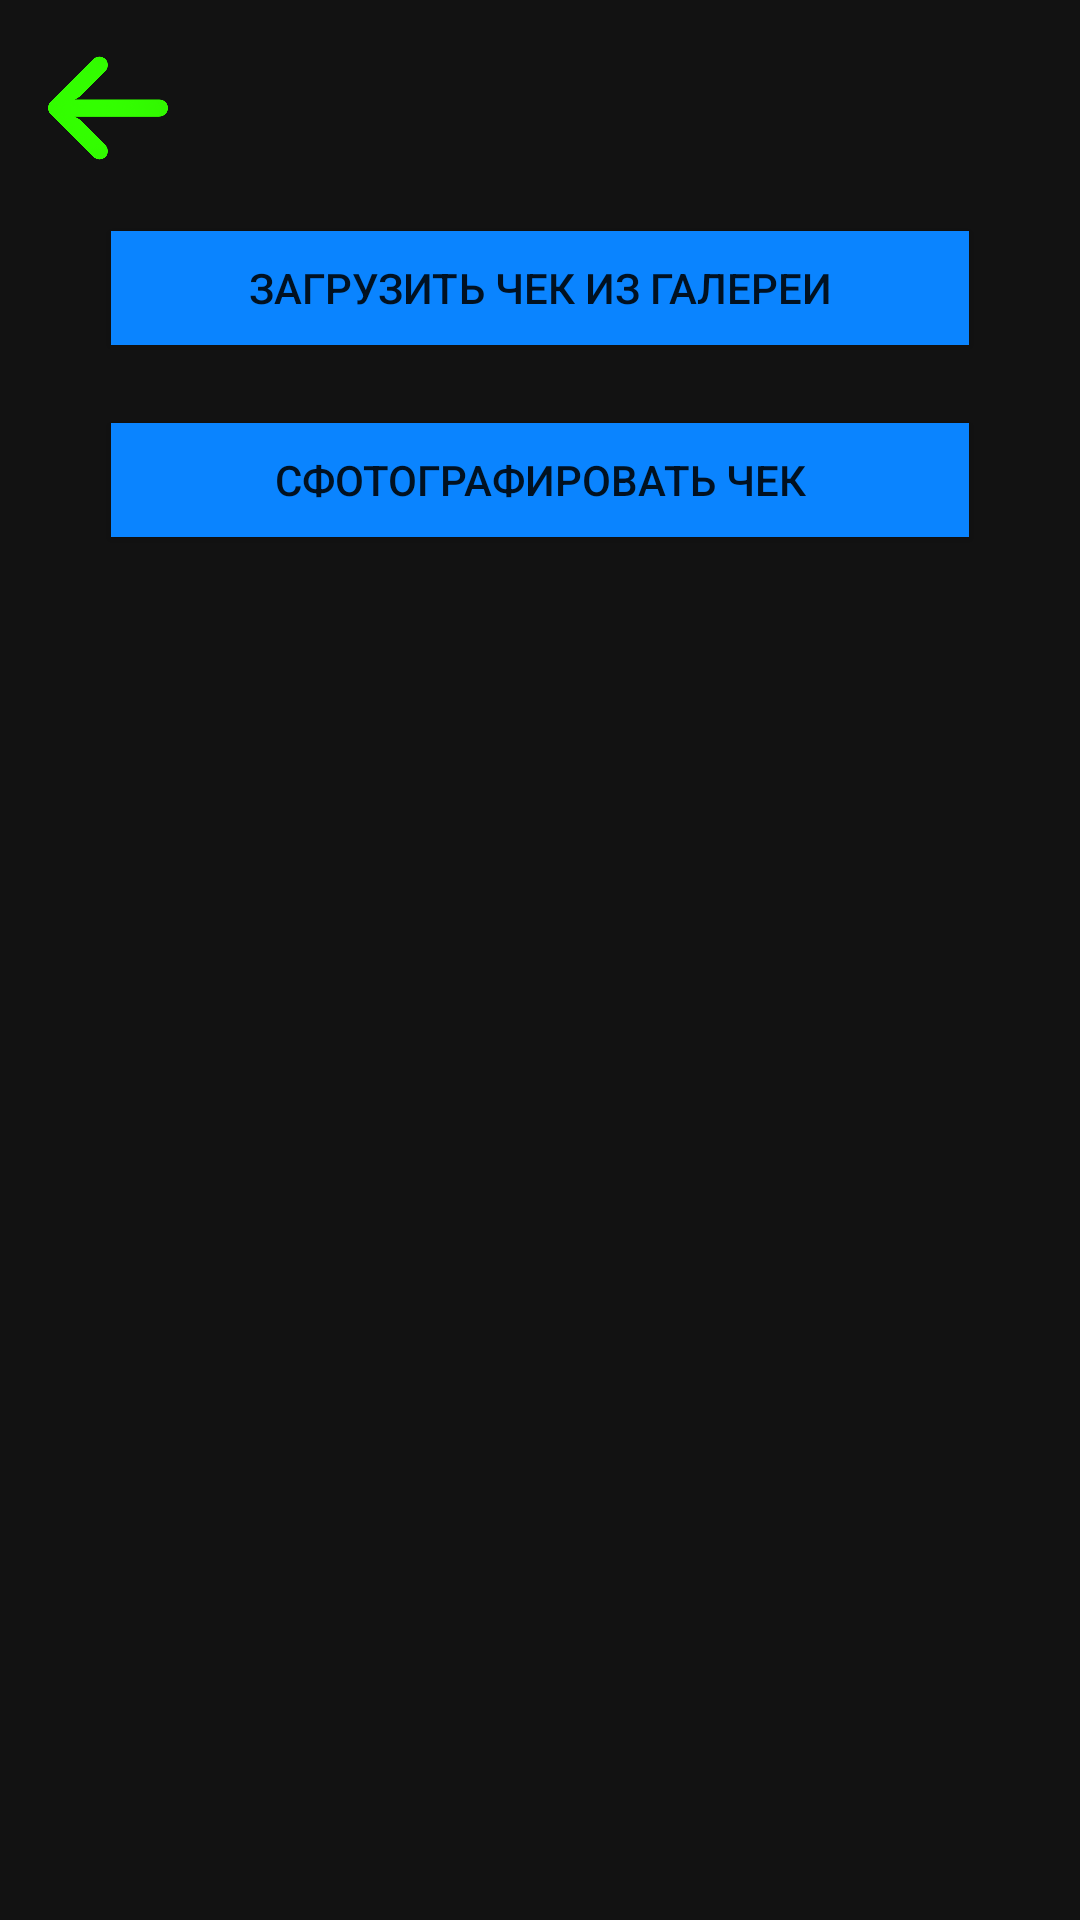

Icon bounding boxes for this 1080 x 1920 phone screenshot, format (x1, y1, x2, y2):
arrow: (48, 56, 168, 160)
